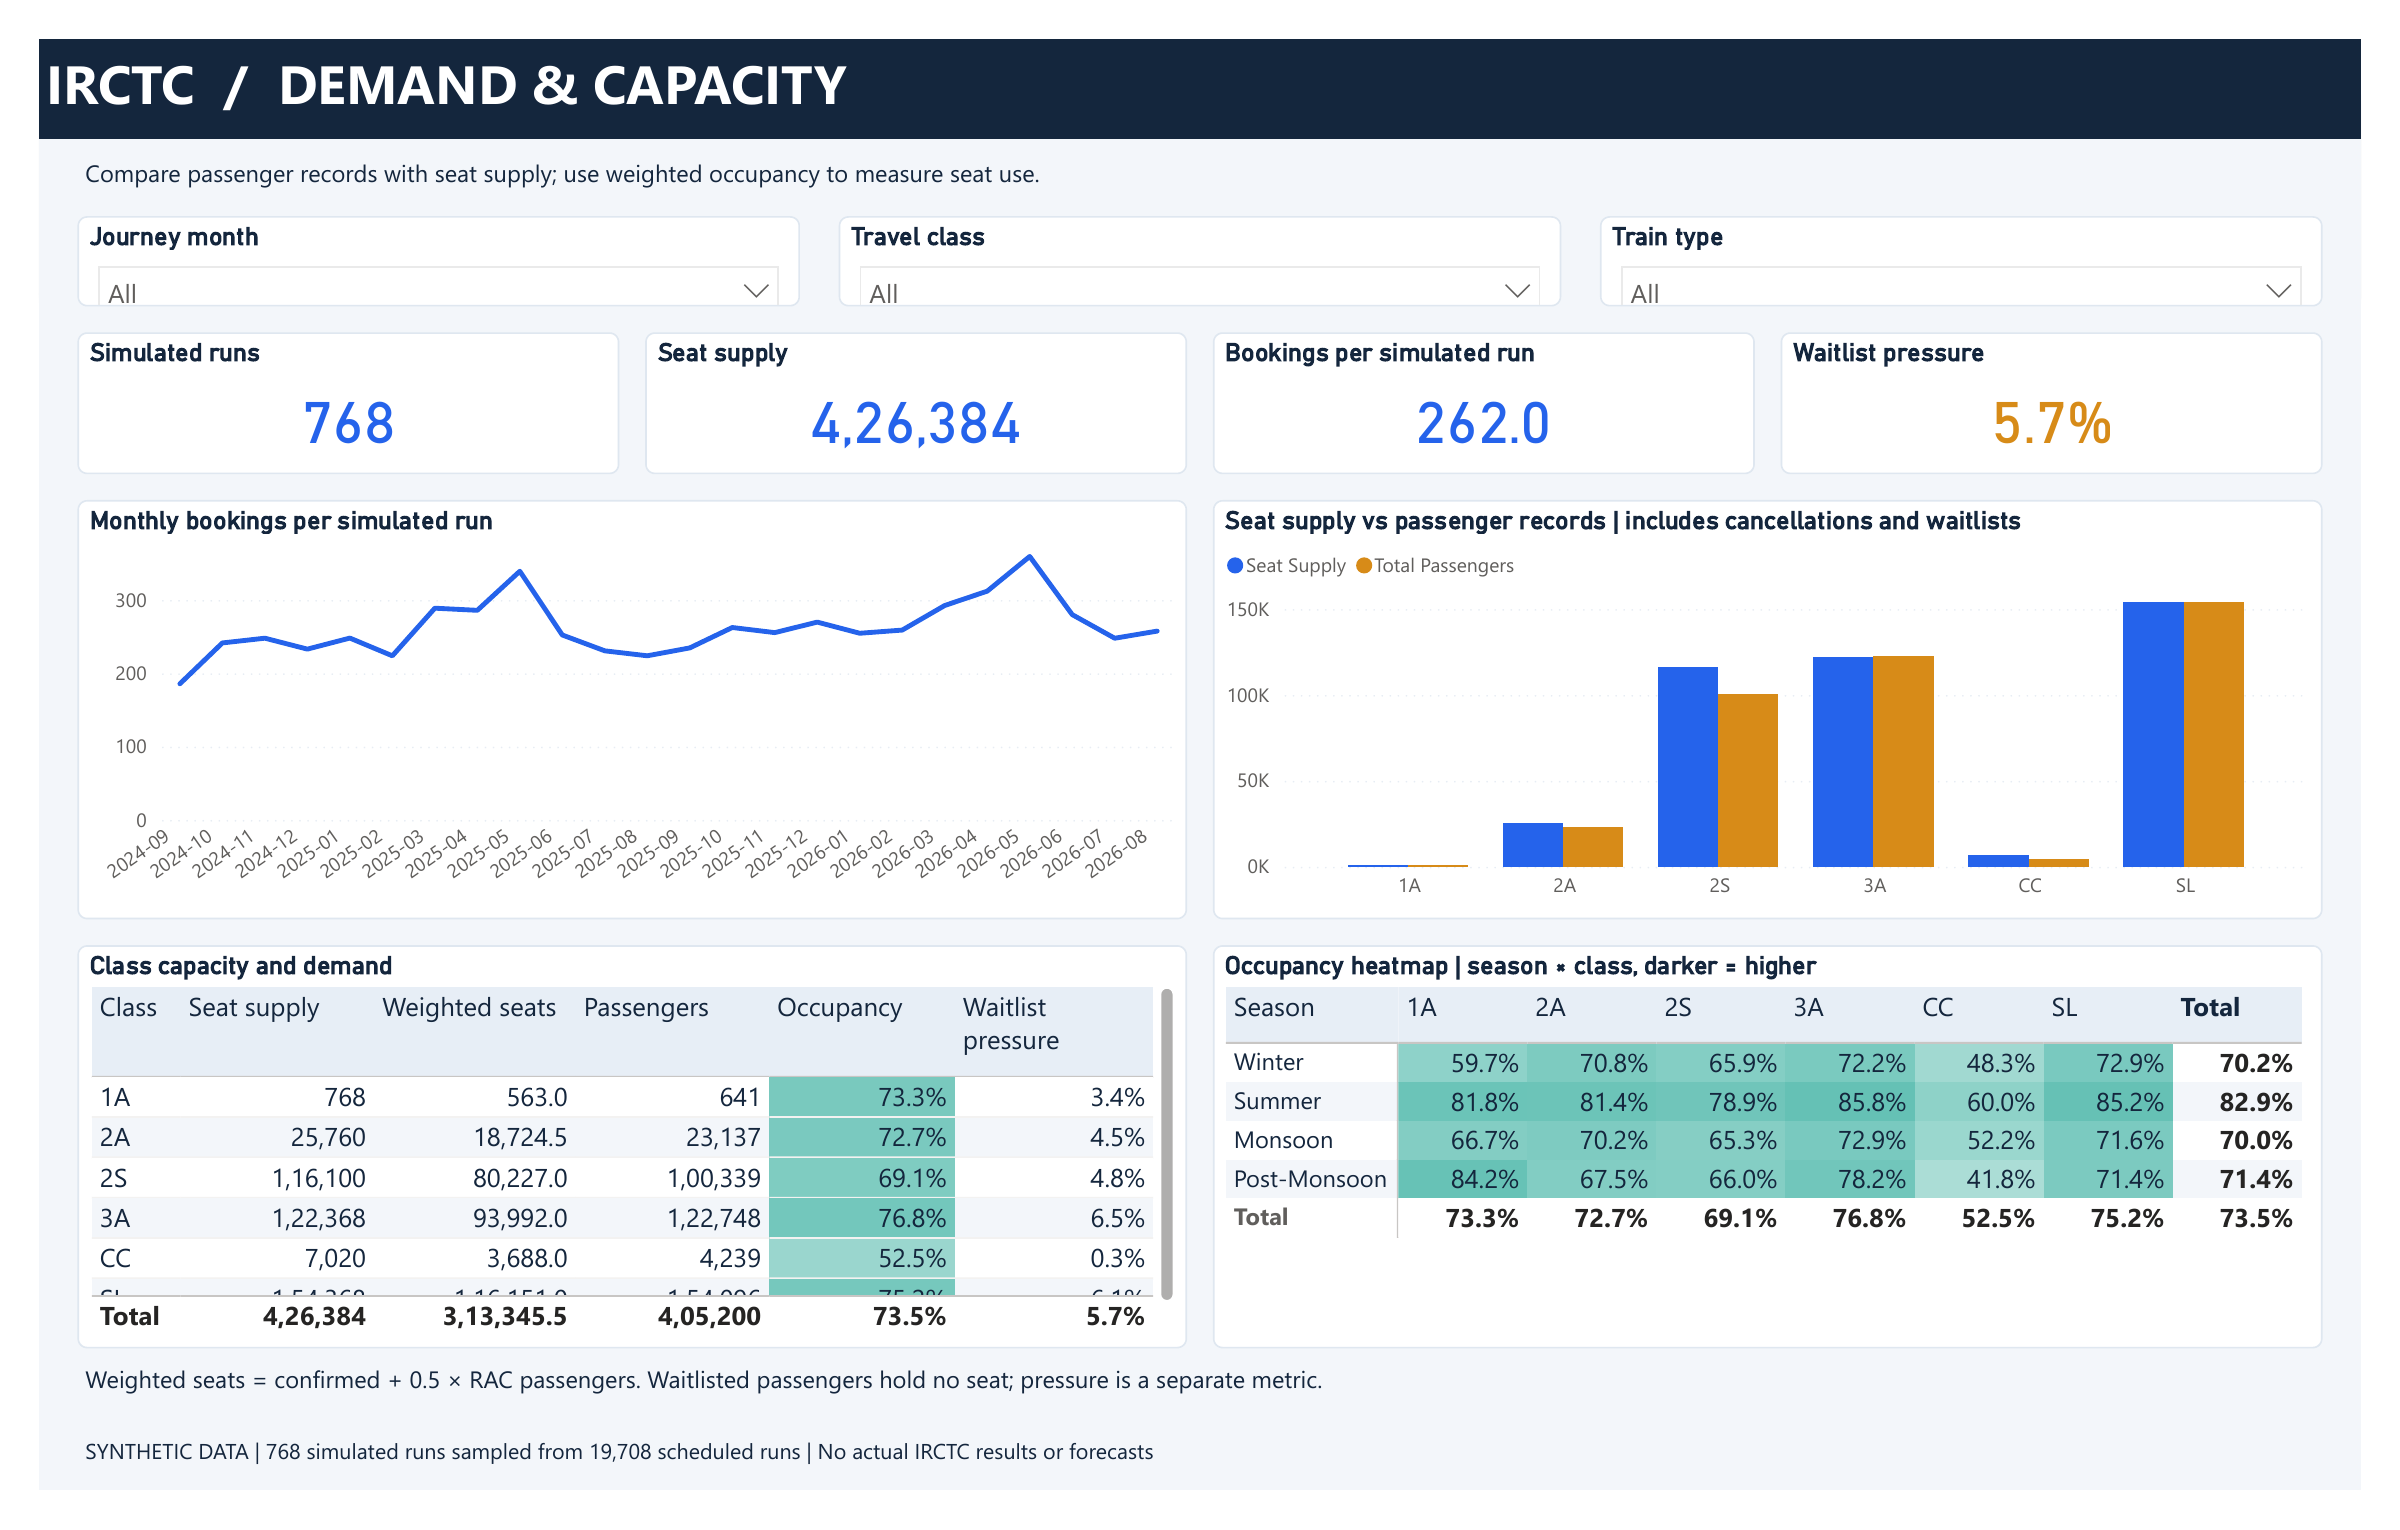

This screenshot's page, from the dashboard's own definition file:
{"tool":"tableau","page":{"name":"02 Demand and capacity","canvas":[1400,820],"ordinal":1},"visuals":[{"type":"text","box":[0,0,1400,58]},{"type":"text","box":[22,66,1356,28]},{"type":"parameter","param":"[Parameters].[Journey month]","box":[22,102,328,53]},{"type":"parameter","param":"[Parameters].[Travel class]","box":[366,102,328,53]},{"type":"parameter","param":"[Parameters].[Train type]","box":[710,102,328,53]},{"type":"text","box":[1060,111,318,35]},{"type":"text","box":[22,168,327,27]},{"type":"text","box":[366,168,327,27]},{"type":"text","box":[710,168,327,27]},{"type":"text","box":[1054,168,327,27]},{"type":"worksheet","title":"02 KPI Simulated runs","mark":"Text","box":[22,195,327,61]},{"type":"worksheet","title":"02 KPI Seat supply","mark":"Text","box":[366,195,327,61]},{"type":"worksheet","title":"02 KPI Bookings per run","mark":"Text","box":[710,195,327,61]},{"type":"worksheet","title":"02 KPI Waitlist pressure","mark":"Text","box":[1054,195,327,61]},{"type":"worksheet","title":"02 Monthly bookings per run","mark":"Line","rows":["Bookings per Run"],"cols":["Month"],"box":[22,272,660,225]},{"type":"worksheet","title":"02 Monthly seat occupancy","mark":"Line","rows":["Seat Occupancy"],"cols":["Month"],"box":[698,272,680,225]},{"type":"worksheet","title":"02 Seat supply by class","mark":"Bar","rows":["TravelClass"],"cols":["Seat Supply"],"box":[22,513,660,222]},{"type":"worksheet","title":"02 Occupancy heatmap | season × class","mark":"Square","rows":["Season"],"cols":["TravelClass"],"box":[698,513,680,222]},{"type":"text","box":[22,751,1356,27]},{"type":"text","box":[22,788,1356,23]}]}

Visuals, with their boxes on the page's 1400x820 design canvas (x1, y1, x2, y2). These are canvas units, not pixel positions in the 2400x1530 screenshot, which may show the page scaled, cropped or inside an application window:
text: 0:0:1400:58
text: 22:66:1378:94
parameter: 22:102:350:155
parameter: 366:102:694:155
parameter: 710:102:1038:155
text: 1060:111:1378:146
text: 22:168:349:195
text: 366:168:693:195
text: 710:168:1037:195
text: 1054:168:1381:195
"02 KPI Simulated runs" worksheet (Text marks): 22:195:349:256
"02 KPI Seat supply" worksheet (Text marks): 366:195:693:256
"02 KPI Bookings per run" worksheet (Text marks): 710:195:1037:256
"02 KPI Waitlist pressure" worksheet (Text marks): 1054:195:1381:256
"02 Monthly bookings per run" worksheet (Line marks): 22:272:682:497
"02 Monthly seat occupancy" worksheet (Line marks): 698:272:1378:497
"02 Seat supply by class" worksheet (Bar marks): 22:513:682:735
"02 Occupancy heatmap | season × class" worksheet (Square marks): 698:513:1378:735
text: 22:751:1378:778
text: 22:788:1378:811
